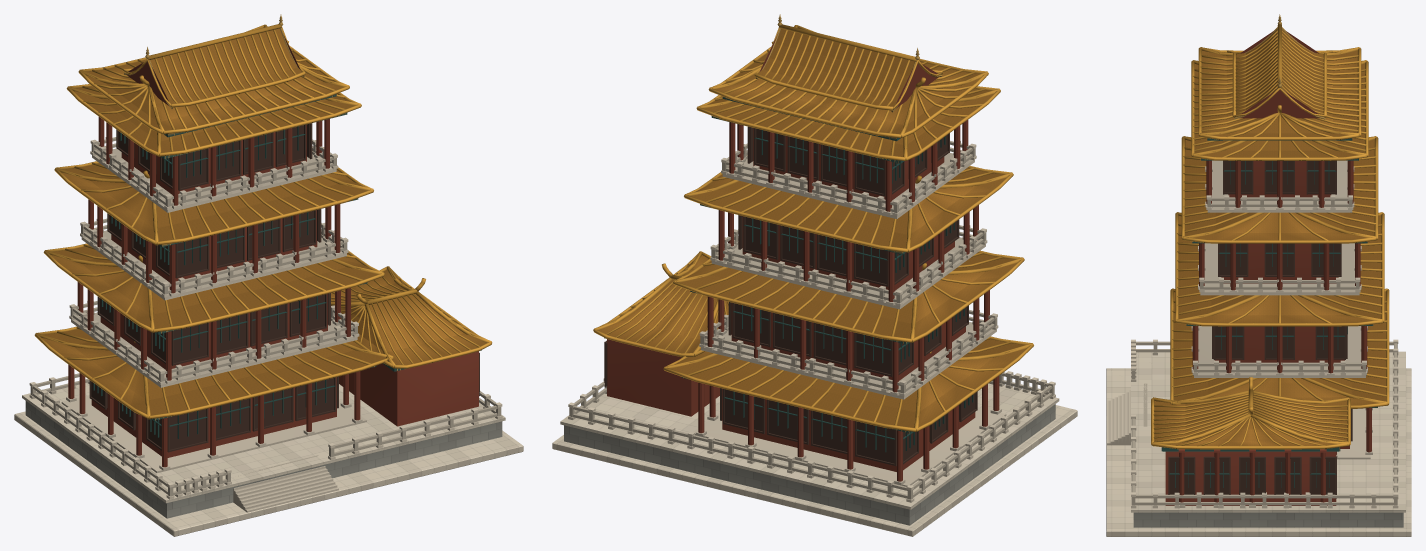
The model's file is yuejiang.glb.
3 renders of one model, left to right at view 1: azimuth 30°, elevation 25°; view 2: azimuth 150°, elevation 25°; view 3: azimuth 270°, elevation 25°, orthographic. The views are drawn at different scales.
Parts seen in each view (by area): view 1: 阅江楼_WEB_建筑; view 2: 阅江楼_WEB_建筑; view 3: 阅江楼_WEB_建筑.
Part boxes in pixels (x1,y1,x2,y2): 阅江楼_WEB_建筑: (14, 14, 523, 536); 阅江楼_WEB_建筑: (552, 14, 1077, 536); 阅江楼_WEB_建筑: (1106, 14, 1411, 536).
Bounding box in the file's own units: 24 × 26.77 × 19.
Materials: 10 (4 with a texture image).
